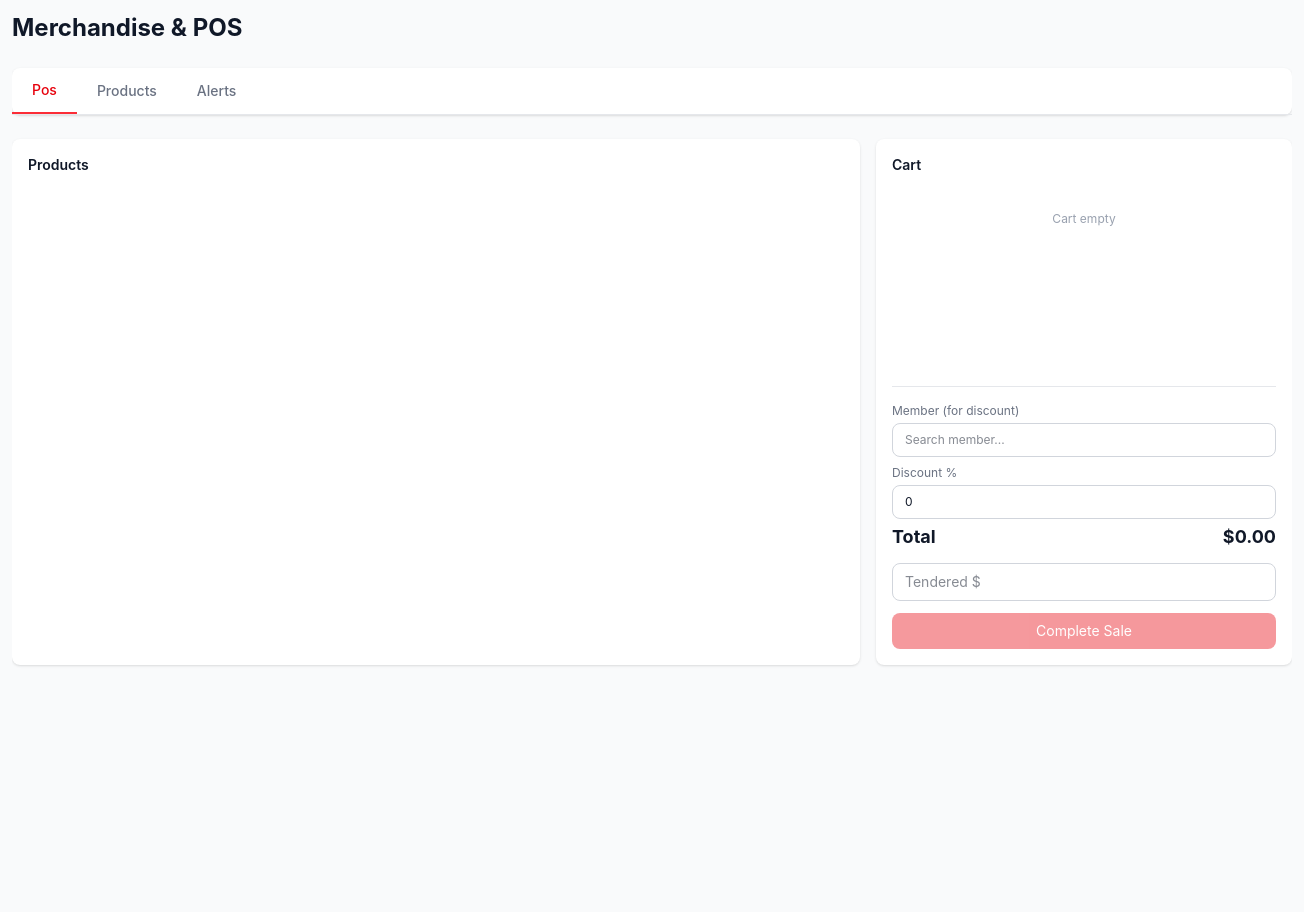
POS Page › switches to products tab
This screenshot has width=1304, height=912.
Click the button "products".
click(127, 91)  # box [77,68,177,114]
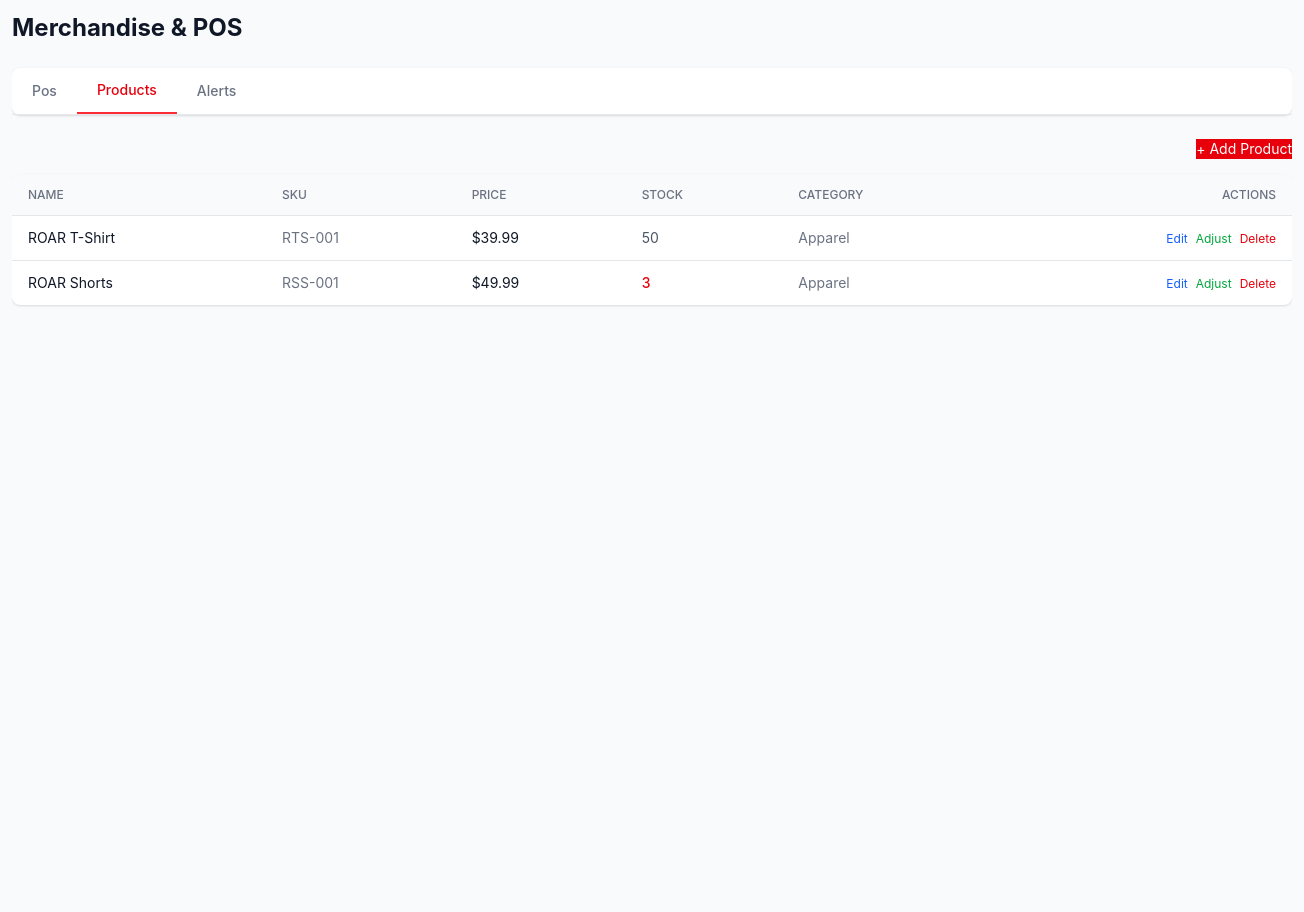
Now the text "RTS-001" is shown, box [266,216,456,260]
Now the text "RSS-001" is shown, box [266,260,456,305]
